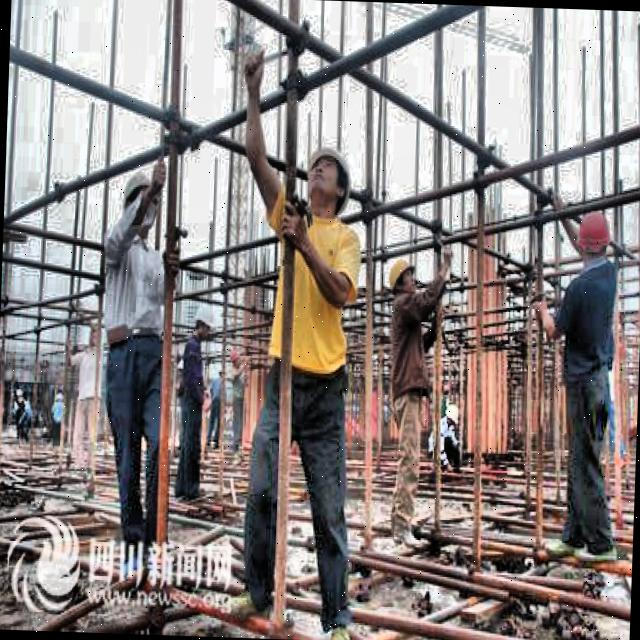helmet: (302, 140, 355, 220), (117, 169, 160, 231), (568, 211, 618, 264), (385, 254, 419, 292), (190, 300, 215, 341), (442, 396, 459, 429)
